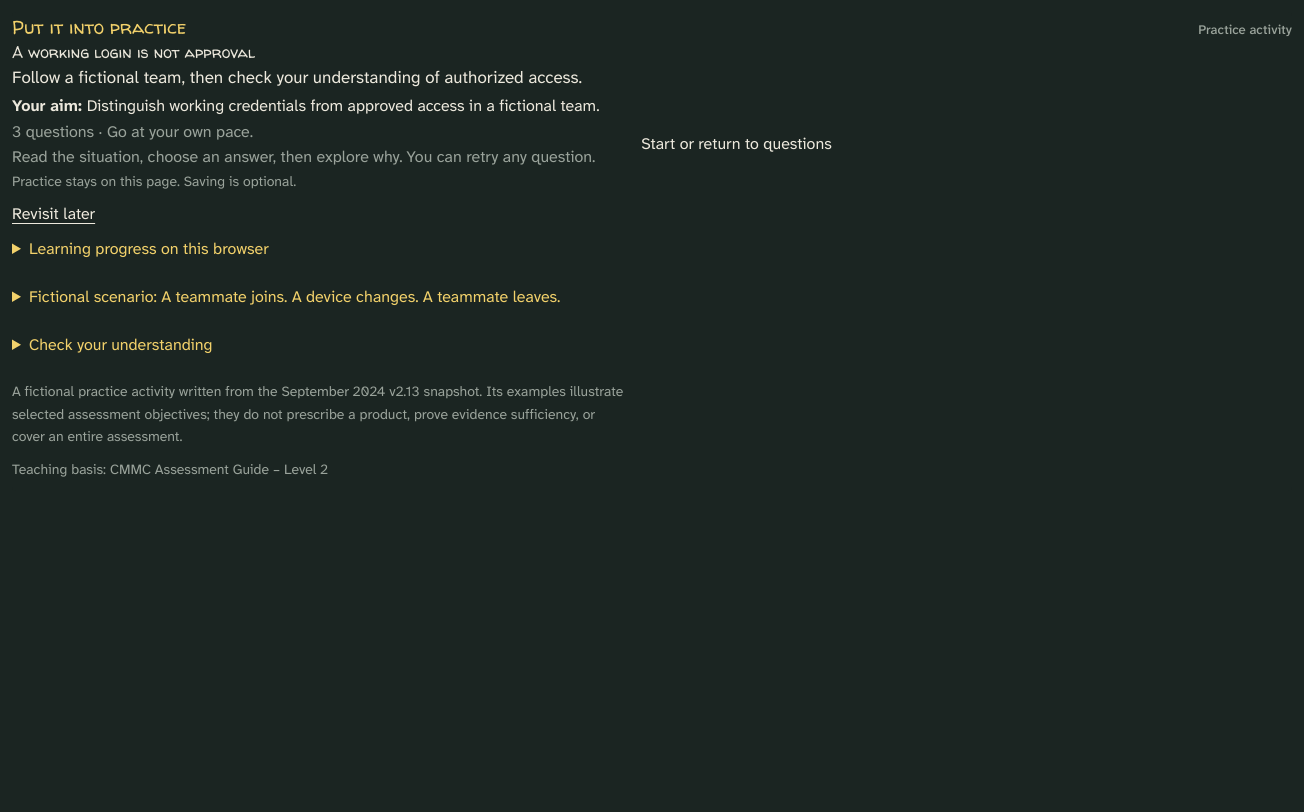
Scenario: LearningPractice › offers an ordered fictional visual flow with persistent draft/source context
Check: the heading "A working login is not approval" is shown, box x1=12 y1=42 x2=255 y2=62
Check: the text "Practice activity" is shown, box x1=1198 y1=20 x2=1292 y2=41
Click the heading that starts with "Fictional scenario:".
click(295, 297)  # box x1=29 y1=286 x2=560 y2=307
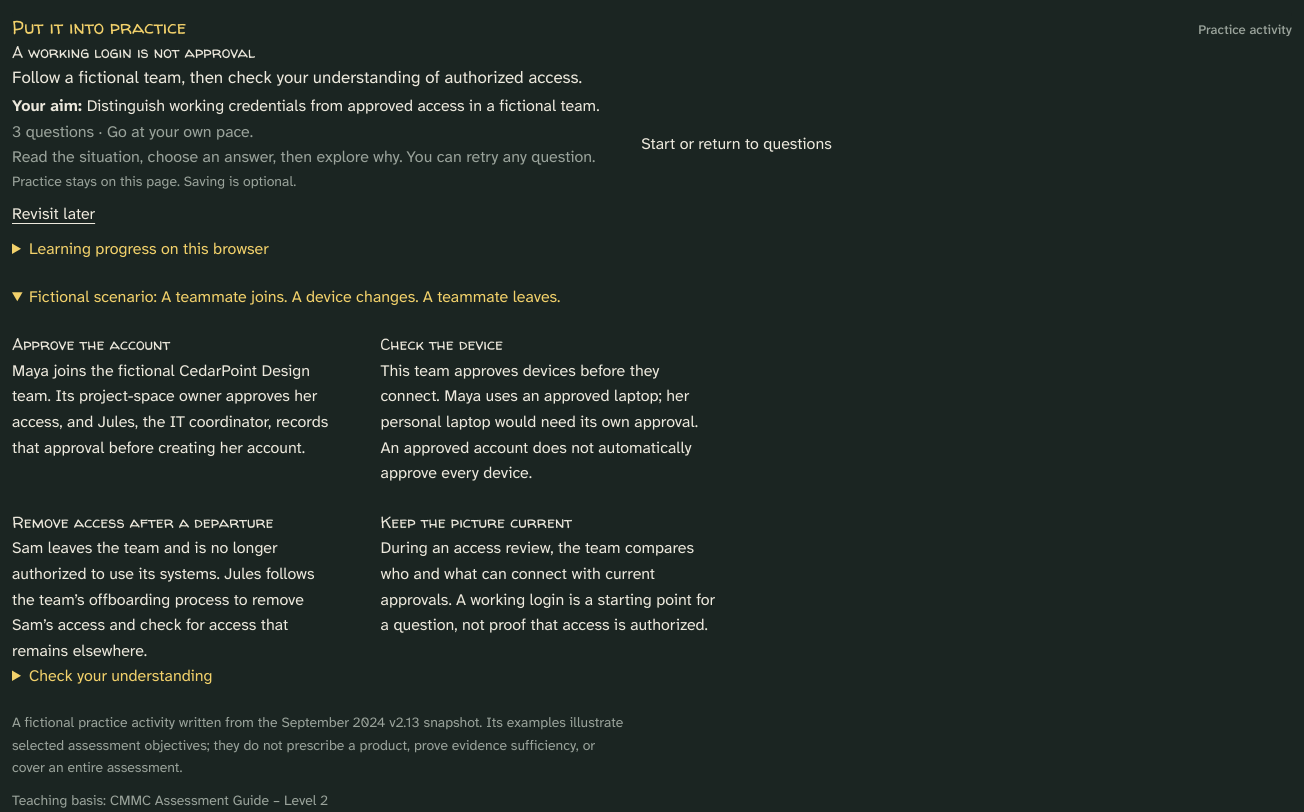
Check: the list is shown, box x1=12 y1=332 x2=717 y2=663
Check: the number of list items is 4, box x1=12 y1=332 x2=348 y2=486; x1=380 y1=332 x2=717 y2=486; x1=12 y1=510 x2=348 y2=663; x1=380 y1=510 x2=717 y2=663
